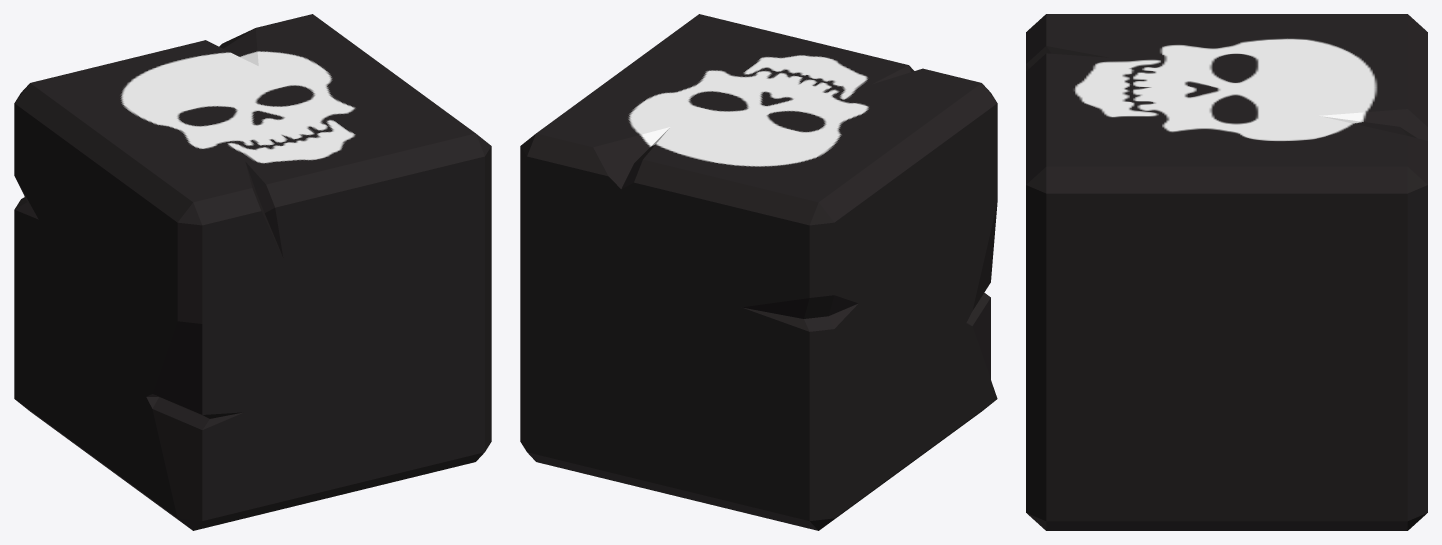
The model's file is Tile_Death.fbx.
3 renders of one model, left to right at view 1: azimuth 30°, elevation 25°; view 2: azimuth 150°, elevation 25°; view 3: azimuth 270°, elevation 25°, orthographic. The views are drawn at different scales.
Visible parts, largest first — view 1: Tile Merah Coak Danger.002; view 2: Tile Merah Coak Danger.002; view 3: Tile Merah Coak Danger.002.
Boxes of the visible parts, <box> form: Tile Merah Coak Danger.002: <box>14,14,491,530</box>; Tile Merah Coak Danger.002: <box>520,14,997,530</box>; Tile Merah Coak Danger.002: <box>1026,14,1427,530</box>.
Bounding box in the file's own units: 1 × 1 × 1.
1 material, 1 textured.
